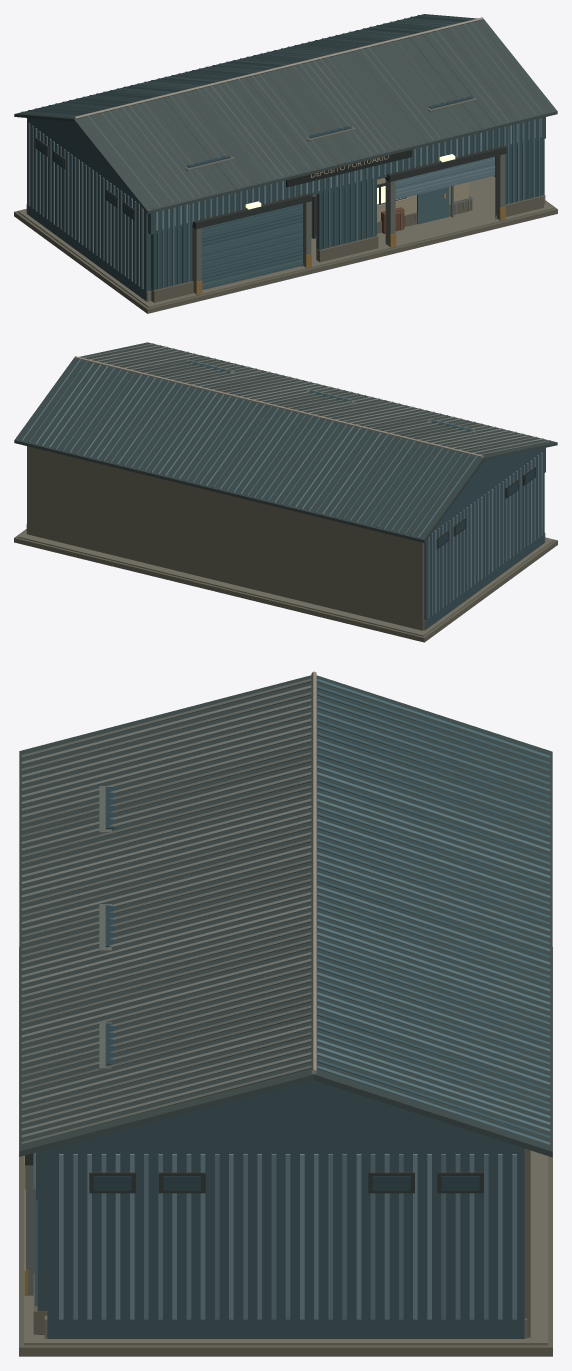
Rendered from dique-edificios.glb.
3 renders of one model, top to bottom at view 1: azimuth 30°, elevation 25°; view 2: azimuth 150°, elevation 25°; view 3: azimuth 270°, elevation 25°, orthographic. The views are drawn at different scales.
Parts seen in each view (by area): view 1: DiqueDeposito_pintura, DiqueDeposito_metal, DiqueTaller_metal, DiqueTaller_pintura, DiqueDeposito_vidrio; view 2: DiqueDeposito_pintura, DiqueDeposito_metal, DiqueDeposito_vidrio; view 3: DiqueDeposito_pintura, DiqueDeposito_metal, DiqueDeposito_vidrio.
Boxes of the visible parts, x1,y1,x2,y2 form: DiqueDeposito_pintura: (14, 14, 557, 313); DiqueDeposito_metal: (21, 15, 550, 293); DiqueTaller_metal: (312, 182, 464, 229); DiqueTaller_pintura: (311, 178, 468, 250); DiqueDeposito_vidrio: (36, 96, 472, 217); DiqueDeposito_pintura: (14, 342, 557, 642); DiqueDeposito_metal: (21, 343, 550, 618); DiqueDeposito_vidrio: (186, 360, 534, 547); DiqueDeposito_pintura: (19, 675, 552, 1356); DiqueDeposito_metal: (21, 671, 550, 1319); DiqueDeposito_vidrio: (93, 787, 479, 1190).
Bounding box in the file's own units: 15.8 × 5.25 × 8.9.
